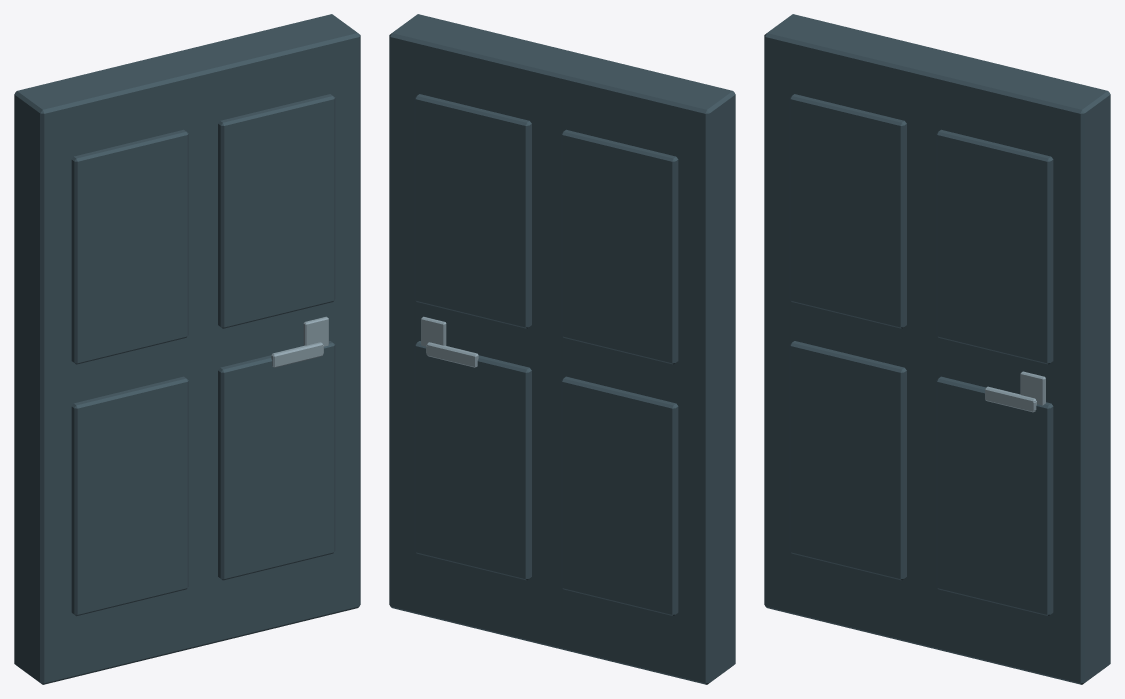
The model's file is door.glb.
The picture shows the model from 3 angles, left to right: view 1: azimuth 30°, elevation 25°; view 2: azimuth 150°, elevation 25°; view 3: azimuth 330°, elevation 25°; orthographic projection.
Visible parts, largest first — view 1: door; view 2: door; view 3: door.
Boxes of the visible parts, x1,y1,x2,y2 form: door: (14,14,360,684); door: (389,14,735,684); door: (764,14,1110,684).
Bounding box in the file's own units: 1.4 × 2.4 × 0.3.
Materials: 1 (1 with a texture image).
